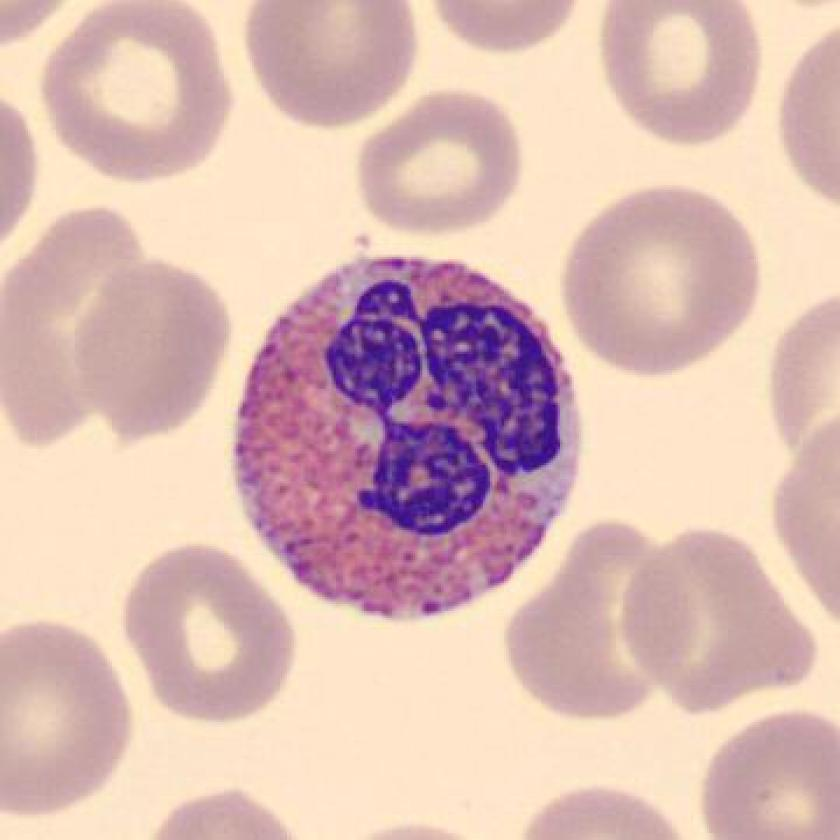eosinophil: (225, 247, 594, 645)
